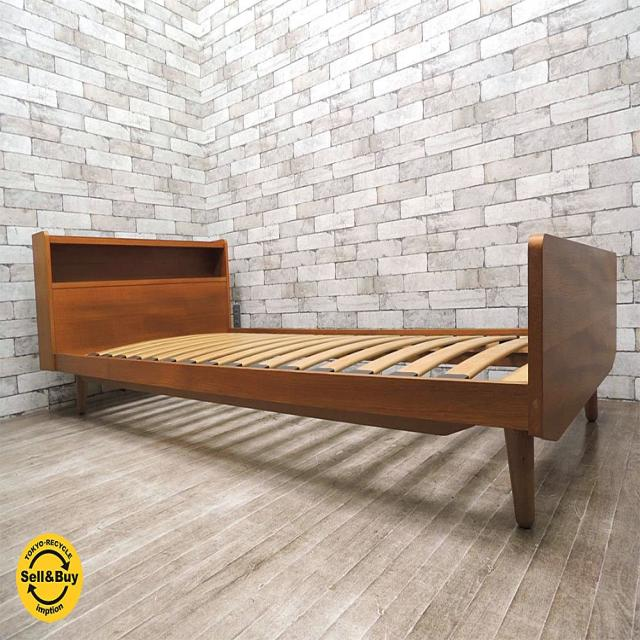bed vintage: (25, 226, 623, 535)
